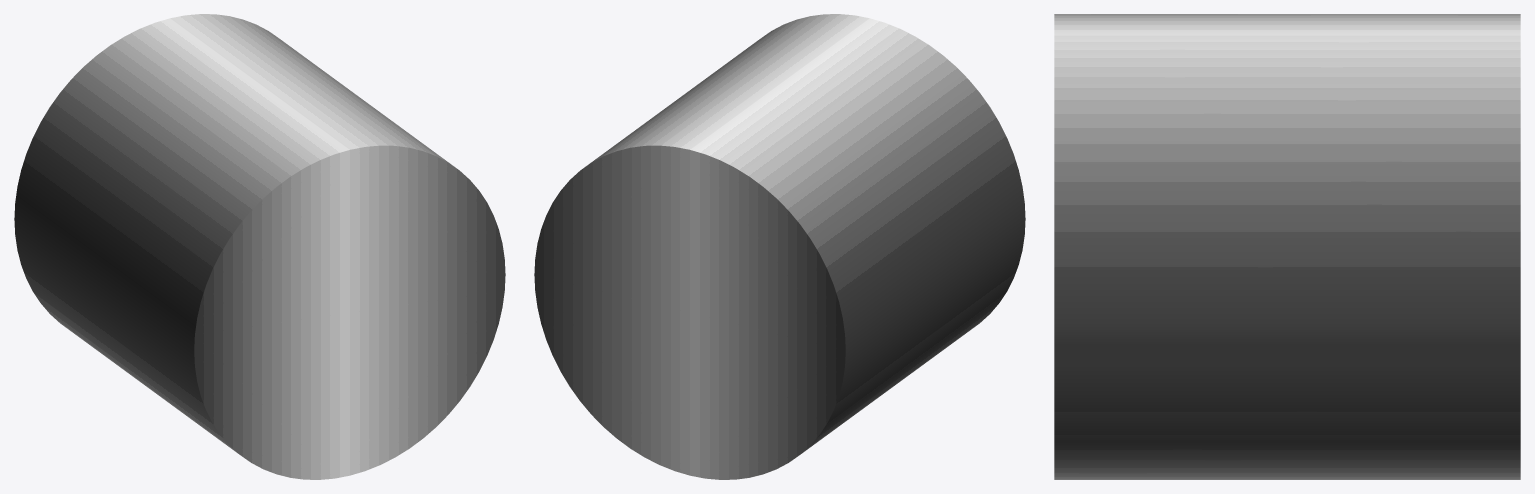
The model's file is gray-1.3DS.dae.
3 views of the same model, side by side, from view 1: azimuth 30°, elevation 25°; view 2: azimuth 150°, elevation 25°; view 3: azimuth 270°, elevation 25° (orthographic). The views are drawn at different scales.
Parts seen in each view (by area): view 1: 1 (×2); view 2: 1 (×2); view 3: 1.
Boxes of the visible parts, x1=… form: 1 (×2): x1=14, y1=14, x2=505, y2=479; 1 (×2): x1=534, y1=14, x2=1025, y2=479; 1: x1=1054, y1=14, x2=1520, y2=479.
Size of the model in its own units: 1 by 1 by 1.
Materials: 1 (1 with a texture image).
